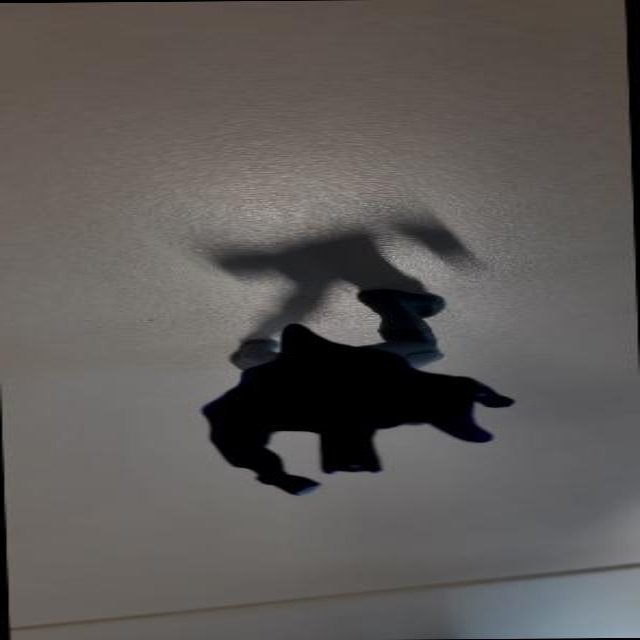Batman: (179, 288, 535, 497)
